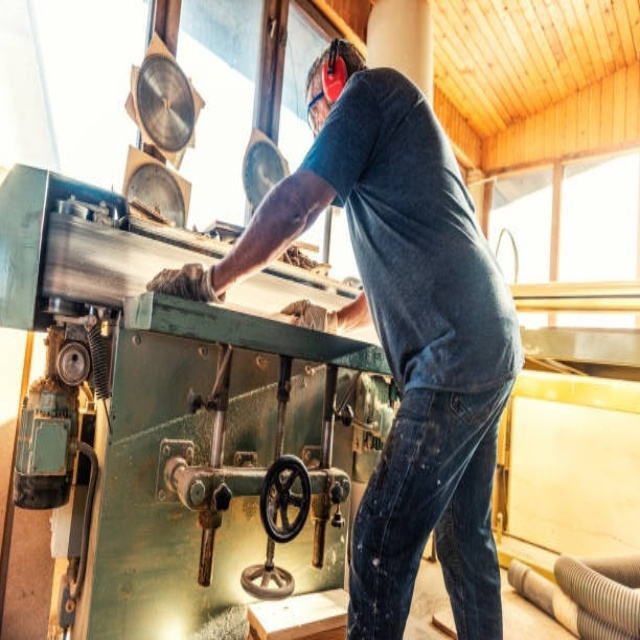Gafas: (303, 85, 324, 136)
Guantes: (146, 262, 221, 306), (280, 299, 336, 333)
